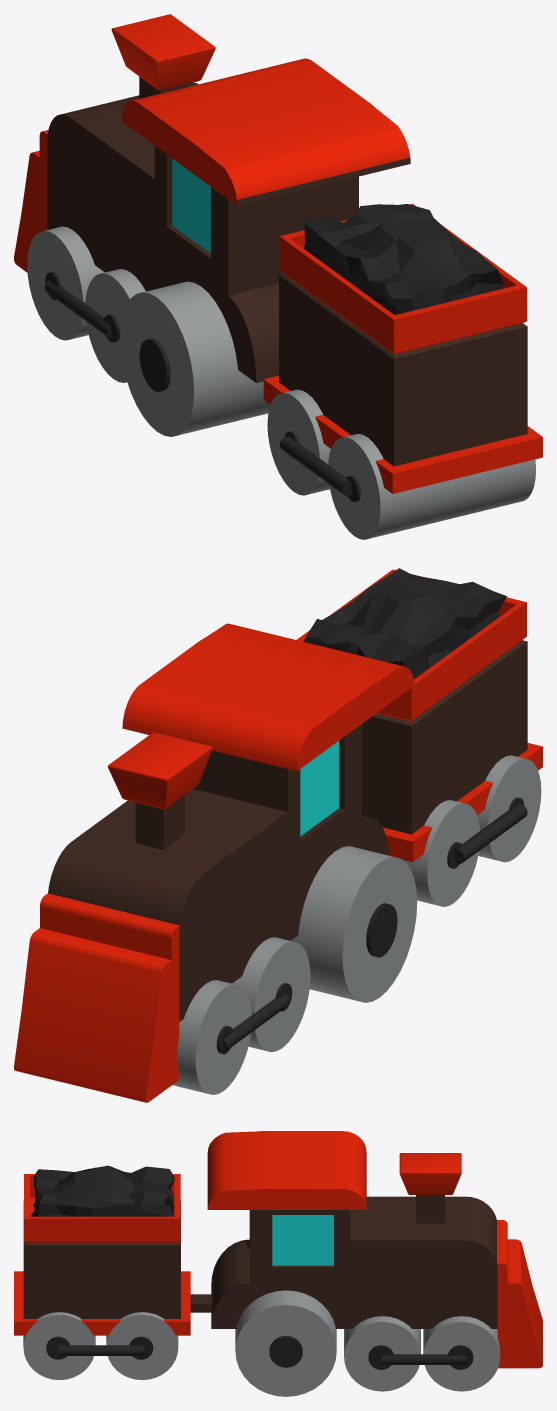
The model's file is Train.fbx.
The picture shows the model from 3 angles, top to bottom: view 1: azimuth 30°, elevation 25°; view 2: azimuth 150°, elevation 25°; view 3: azimuth 270°, elevation 25°; orthographic projection. The views are drawn at different scales.
Visible parts, largest first — view 1: Cube, Cylinder.002, Cube.001, Cylinder.007, Cylinder, Cylinder.008, Cylinder.001, Cylinder.006, Cylinder.003; view 2: Cube, Cylinder.002, Cube.001, Cylinder, Cylinder.001, Cylinder.008, Cylinder.007, Cylinder.006, Cylinder.003; view 3: Cube, Cylinder.002, Cube.001, Cylinder.001, Cylinder, Cylinder.007, Cylinder.008, Cylinder.005, Cylinder.004.
Part boxes in pixels (left/top/right/bottom): Cube: left=14, top=14, right=542, bottom=493; Cylinder.002: left=120, top=281, right=270, bottom=436; Cube.001: left=304, top=204, right=503, bottom=314; Cylinder.007: left=328, top=433, right=535, bottom=539; Cylinder: left=27, top=226, right=104, bottom=340; Cylinder.008: left=267, top=389, right=330, bottom=495; Cylinder.001: left=85, top=269, right=145, bottom=382; Cylinder.006: left=279, top=436, right=351, bottom=496; Cylinder.003: left=44, top=280, right=111, bottom=338; Cube: left=14, top=569, right=542, bottom=1102; Cylinder.002: left=291, top=846, right=417, bottom=1002; Cube.001: left=303, top=568, right=506, bottom=679; Cylinder: left=172, top=980, right=251, bottom=1094; Cylinder.001: left=232, top=937, right=310, bottom=1052; Cylinder.008: left=403, top=800, right=479, bottom=906; Cylinder.007: left=477, top=755, right=541, bottom=862; Cylinder.006: left=455, top=803, right=527, bottom=863; Cylinder.003: left=223, top=993, right=290, bottom=1052; Cube: left=14, top=1131, right=542, bottom=1368; Cylinder.002: left=235, top=1290, right=336, bottom=1396; Cube.001: left=31, top=1165, right=175, bottom=1216; Cylinder.001: left=344, top=1316, right=420, bottom=1391; Cylinder: left=423, top=1316, right=500, bottom=1391; Cylinder.007: left=23, top=1312, right=95, bottom=1379; Cylinder.008: left=106, top=1312, right=178, bottom=1379; Cylinder.005: left=59, top=1345, right=144, bottom=1355; Cylinder.004: left=381, top=1354, right=466, bottom=1364.
Bounding box in the file's own units: 150 × 187 × 440.
